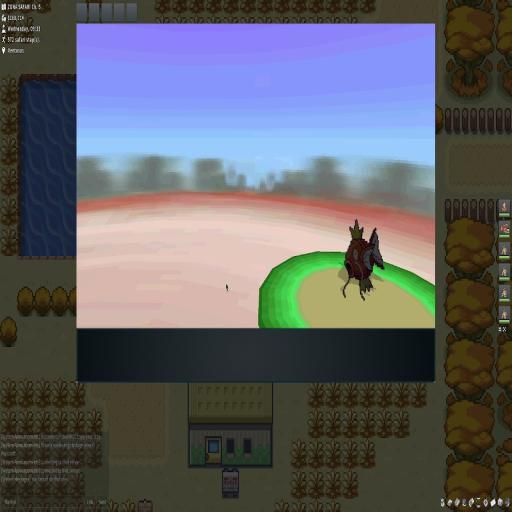MAGIKARP: (338, 216, 385, 304)
